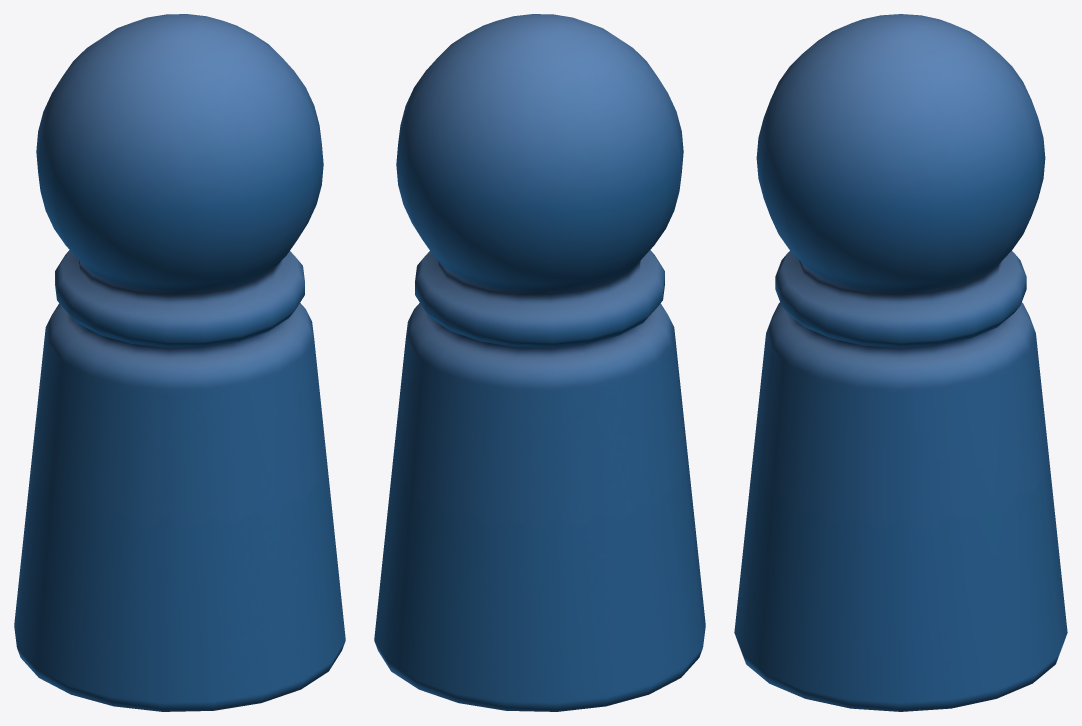
The model's file is YutNori_PieceBlue.fbx.
3 views of the same model, side by side, from view 1: azimuth 30°, elevation 25°; view 2: azimuth 150°, elevation 25°; view 3: azimuth 270°, elevation 25° (orthographic).
Parts seen in each view (by area): view 1: YutNori_PieceBlue; view 2: YutNori_PieceBlue; view 3: YutNori_PieceBlue.
Part boxes in pixels (x1,y1,x2,y2): YutNori_PieceBlue: [14, 14, 345, 711]; YutNori_PieceBlue: [374, 14, 705, 711]; YutNori_PieceBlue: [734, 14, 1067, 711].
Size of the model in its own units: 2.55 by 5.23 by 2.55.
